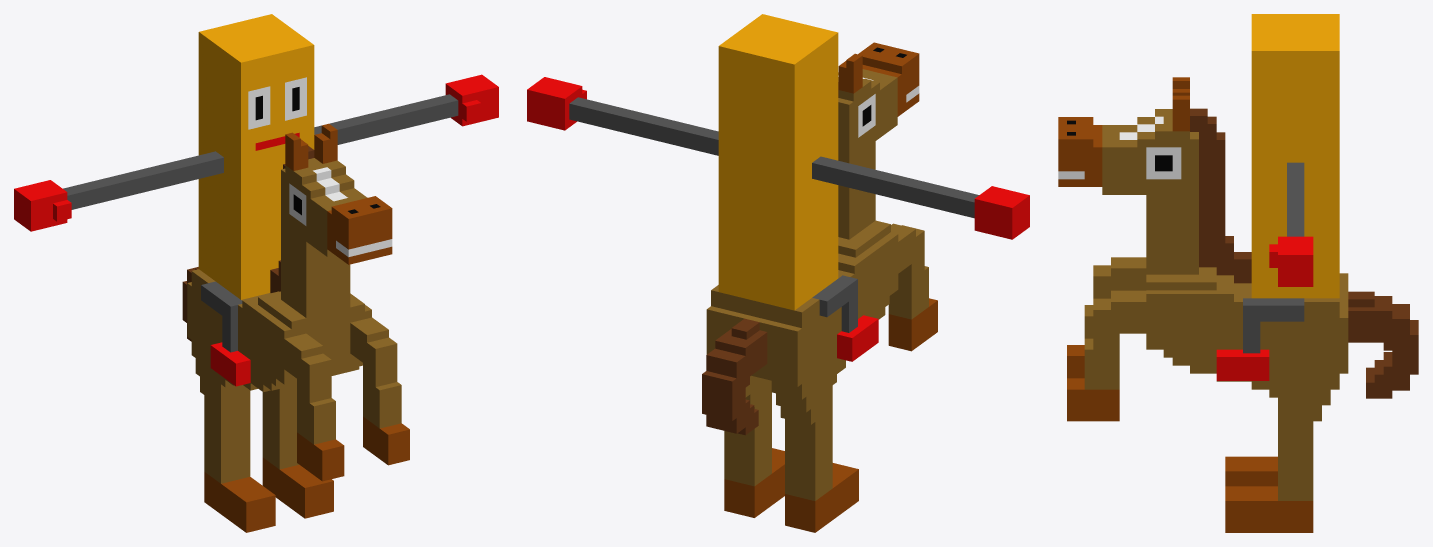
Rendered from potatokun_newyear2026.fbx.
3 renders of one model, left to right at view 1: azimuth 30°, elevation 25°; view 2: azimuth 150°, elevation 25°; view 3: azimuth 270°, elevation 25°, orthographic. The views are drawn at different scales.
Parts seen in each view (by area): view 1: PotatoKun 午年; view 2: PotatoKun 午年; view 3: PotatoKun 午年.
Part boxes in pixels (bbox=[...]): PotatoKun 午年: bbox=[14, 14, 498, 532]; PotatoKun 午年: bbox=[527, 14, 1029, 532]; PotatoKun 午年: bbox=[1058, 14, 1418, 532].
Size of the model in its own units: 64.03 by 60.02 by 41.02.
2 materials, 2 textured.
